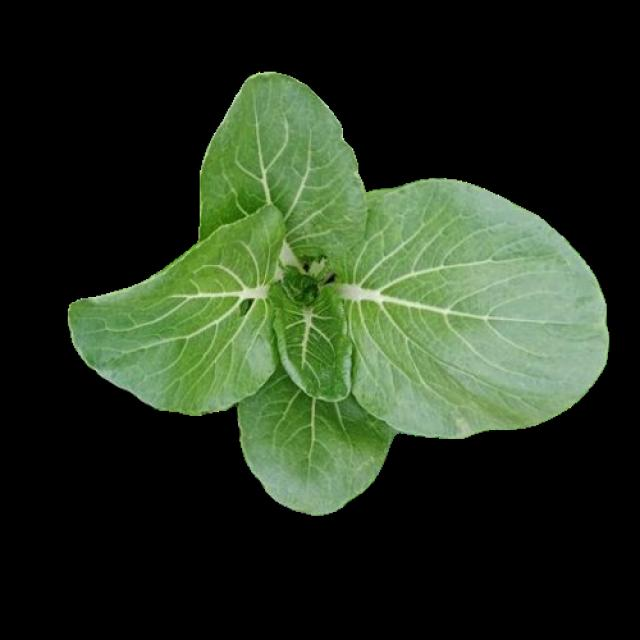healthy: (64, 69, 603, 511)
mature: (67, 72, 606, 513)
